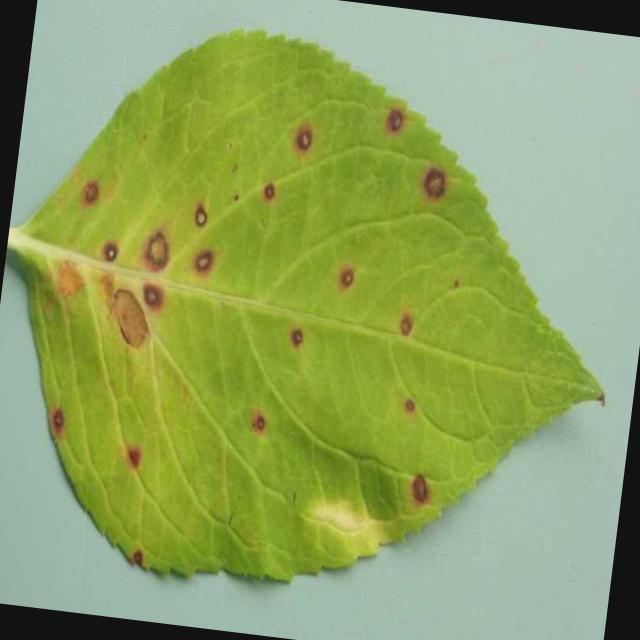leaf_spot: (7, 30, 604, 579)
